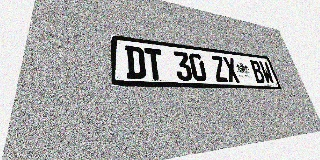0: (188, 53, 208, 81)
3: (173, 51, 193, 81)
B: (249, 60, 266, 84)
D: (125, 45, 146, 79)
T: (144, 47, 165, 80)
W: (258, 61, 275, 84)
X: (222, 57, 240, 83)
Z: (210, 55, 229, 82)
